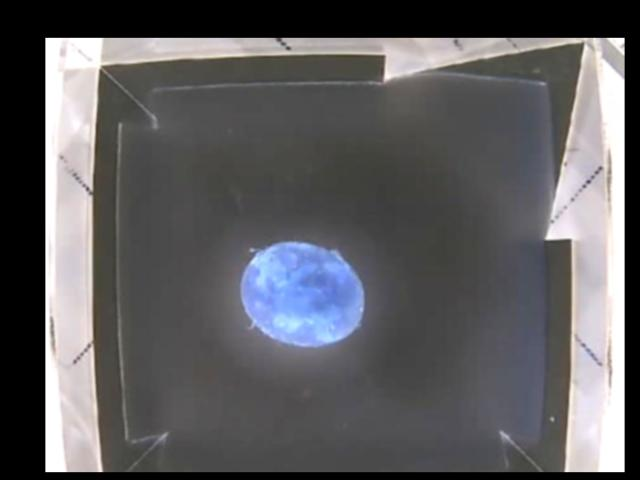Potato: (239, 243, 365, 346)
